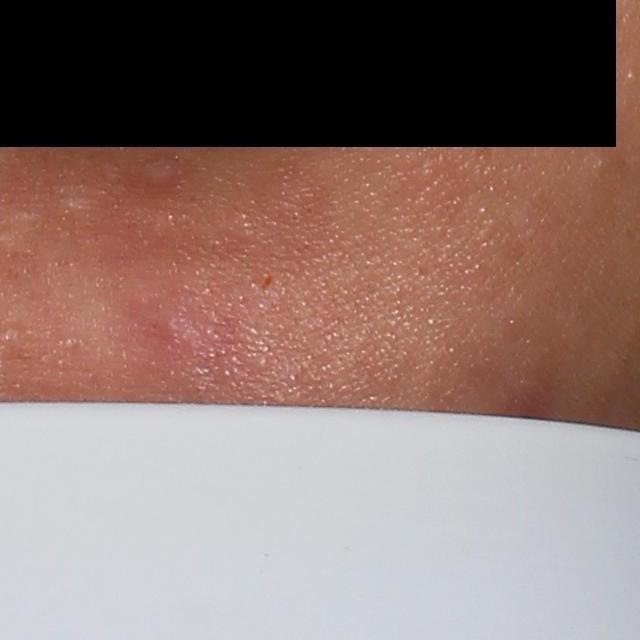hypertrophic_scar: (51, 179, 99, 220)
